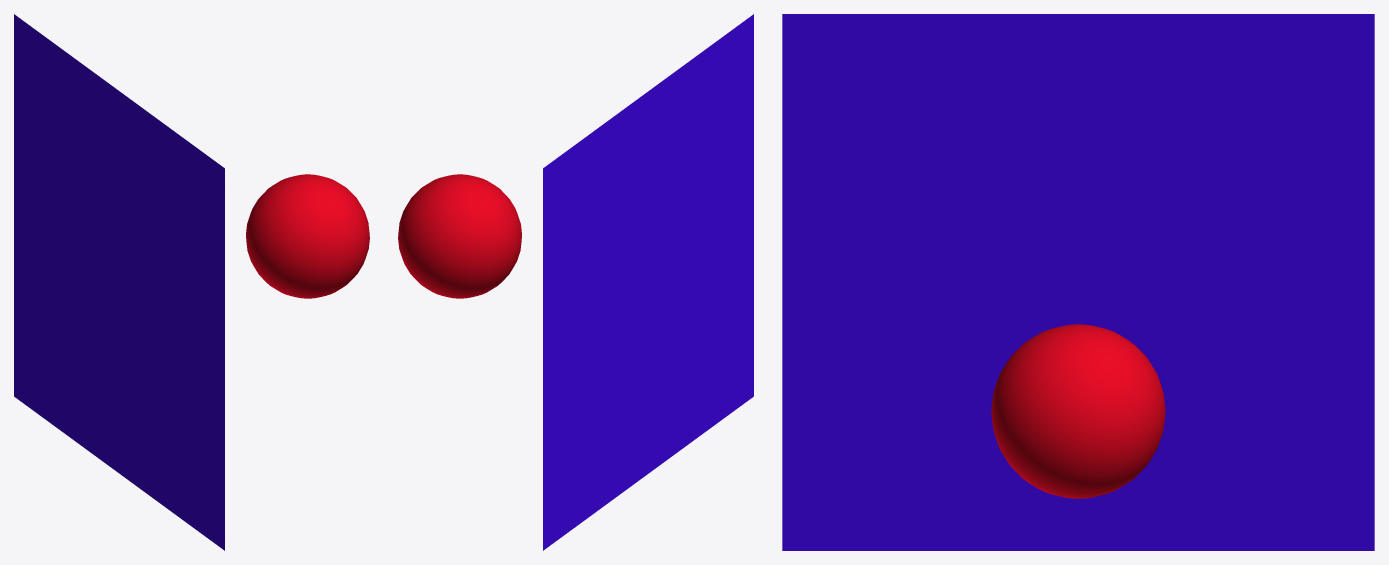
File: trial1.glb
3 renders of one model, left to right at view 1: azimuth 30°, elevation 25°; view 2: azimuth 150°, elevation 25°; view 3: azimuth 270°, elevation 25°, orthographic. The views are drawn at different scales.
Parts seen in each view (by area): view 1: Plane, Sphere; view 2: Plane, Sphere; view 3: Plane, Sphere.
Boxes of the visible parts, x1=… form: Plane: x1=14, y1=14, x2=224, y2=550; Sphere: x1=246, y1=174, x2=369, y2=298; Plane: x1=543, y1=14, x2=753, y2=550; Sphere: x1=398, y1=174, x2=521, y2=298; Plane: x1=782, y1=14, x2=1374, y2=550; Sphere: x1=991, y1=324, x2=1165, y2=498.
Bounding box in the file's own units: 4.5 × 6.79 × 6.79.
